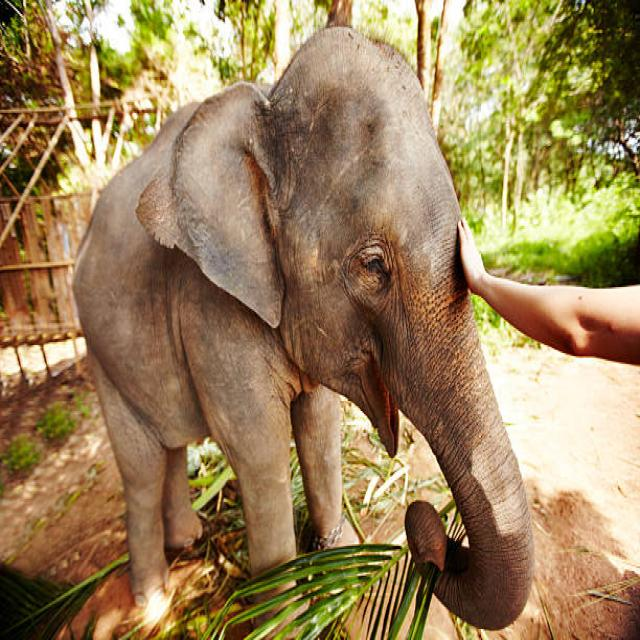Elephant: (59, 23, 570, 622)
